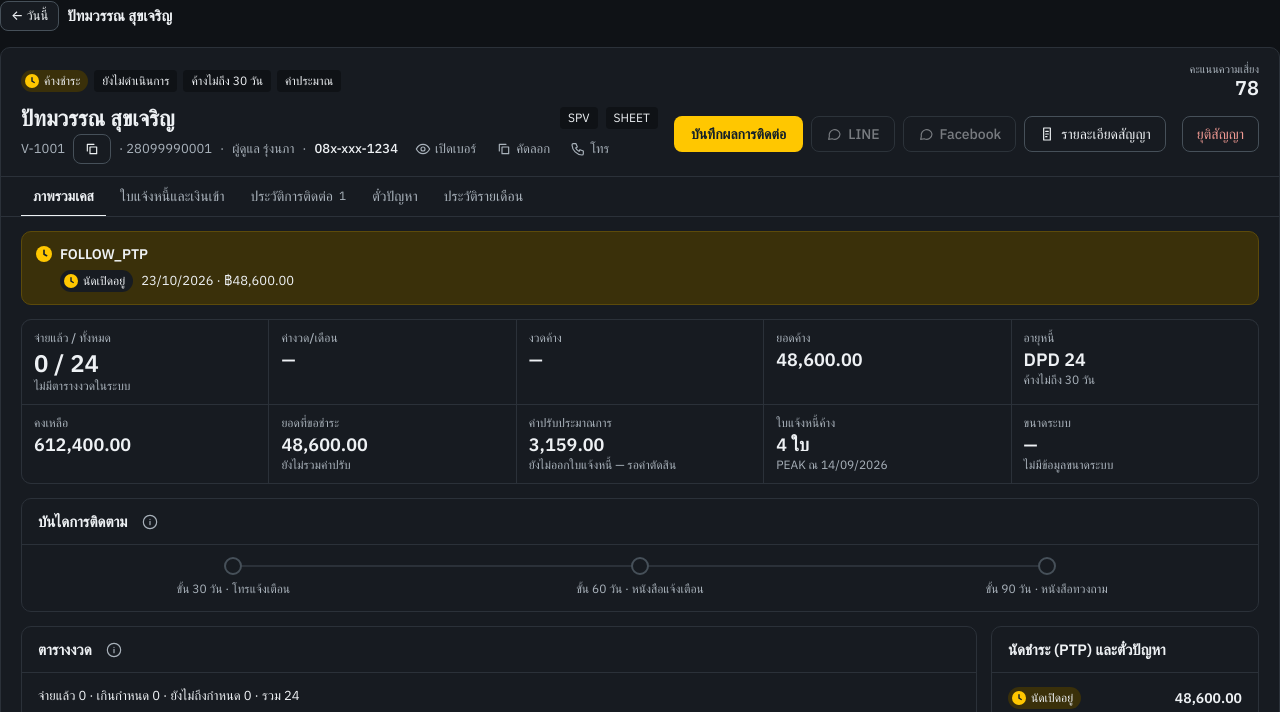
Scenario: monthly history (2026-09-25) › the case page lists one row per month with the status and where it came from
Step 1. Click the tab "ประวัติรายเดือน" → (484, 197), box [432,177,535,217]
(page scrolled)
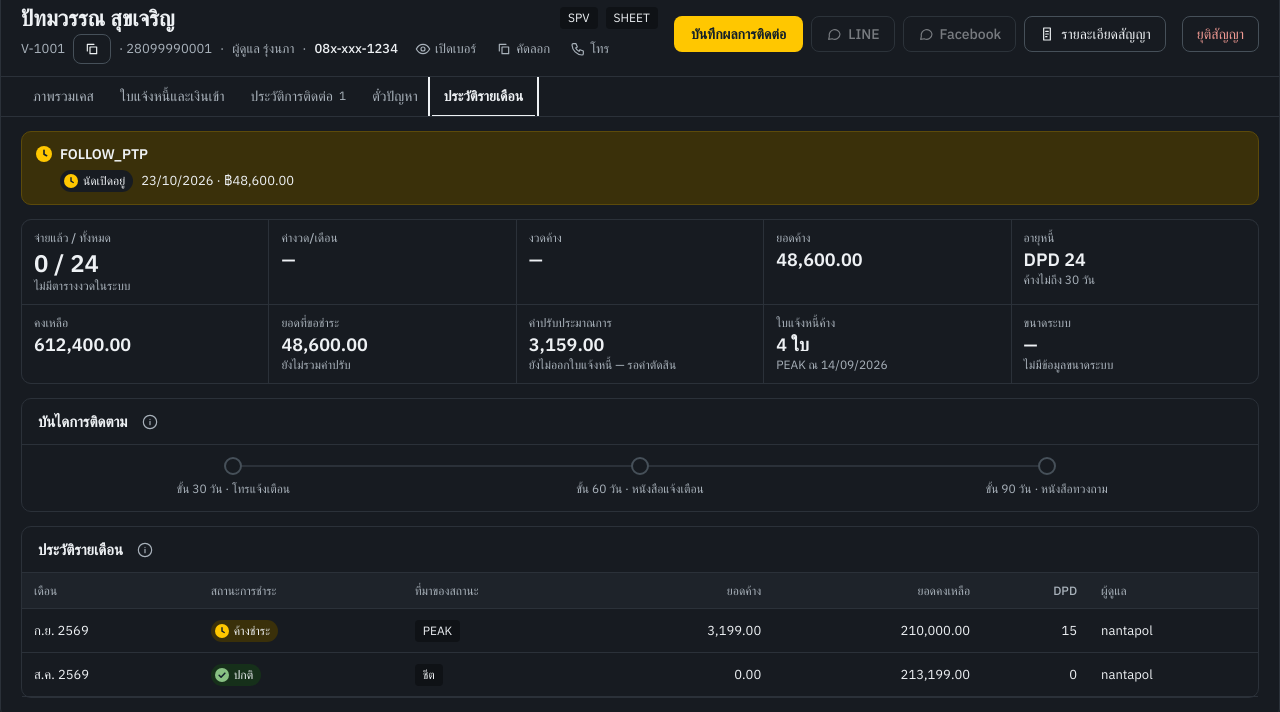
Check: the number of rows is 3, box [22,573,1258,609]; [22,609,1258,653]; [22,653,1258,697]
Check: the text "PEAK" is shown, box [415,620,460,642]
Check: the text "ชีต" is shown, box [415,664,443,686]
